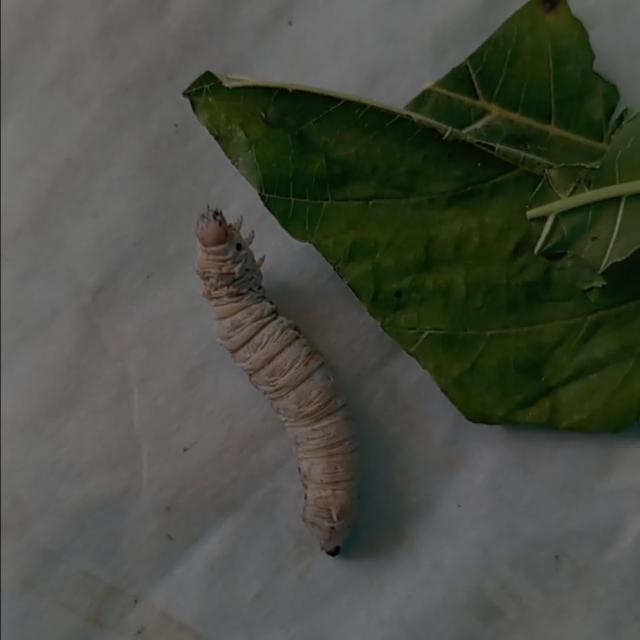Grasserie: (184, 195, 372, 566)
